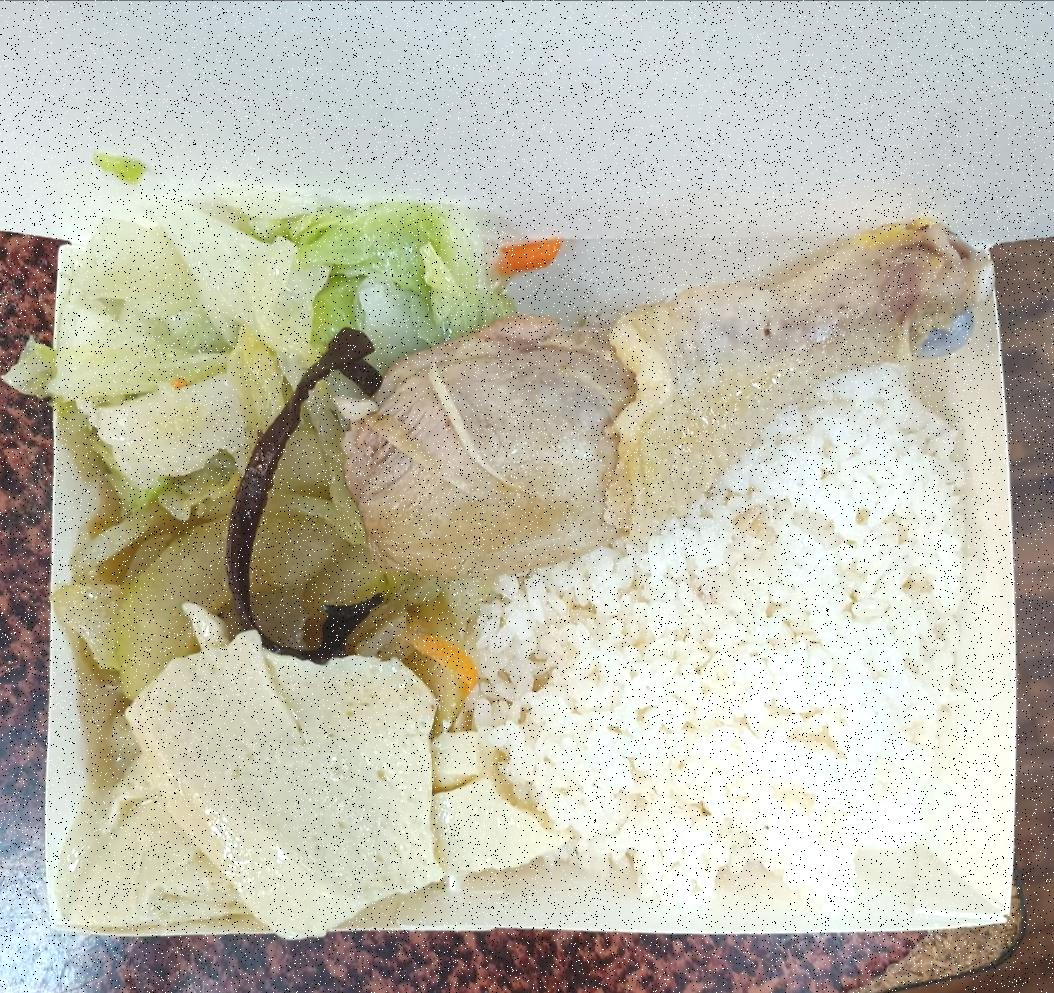box: (17, 184, 1048, 960)
side dish: (58, 202, 492, 488), (67, 642, 462, 916), (70, 458, 470, 706)
small herbal chicken leg: (341, 202, 1010, 582)
white rice: (476, 330, 971, 893)
